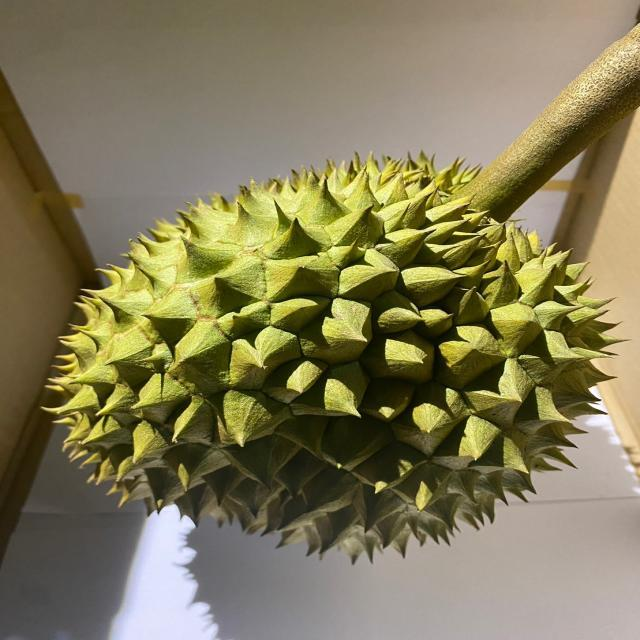immature: (42, 150, 630, 566)
